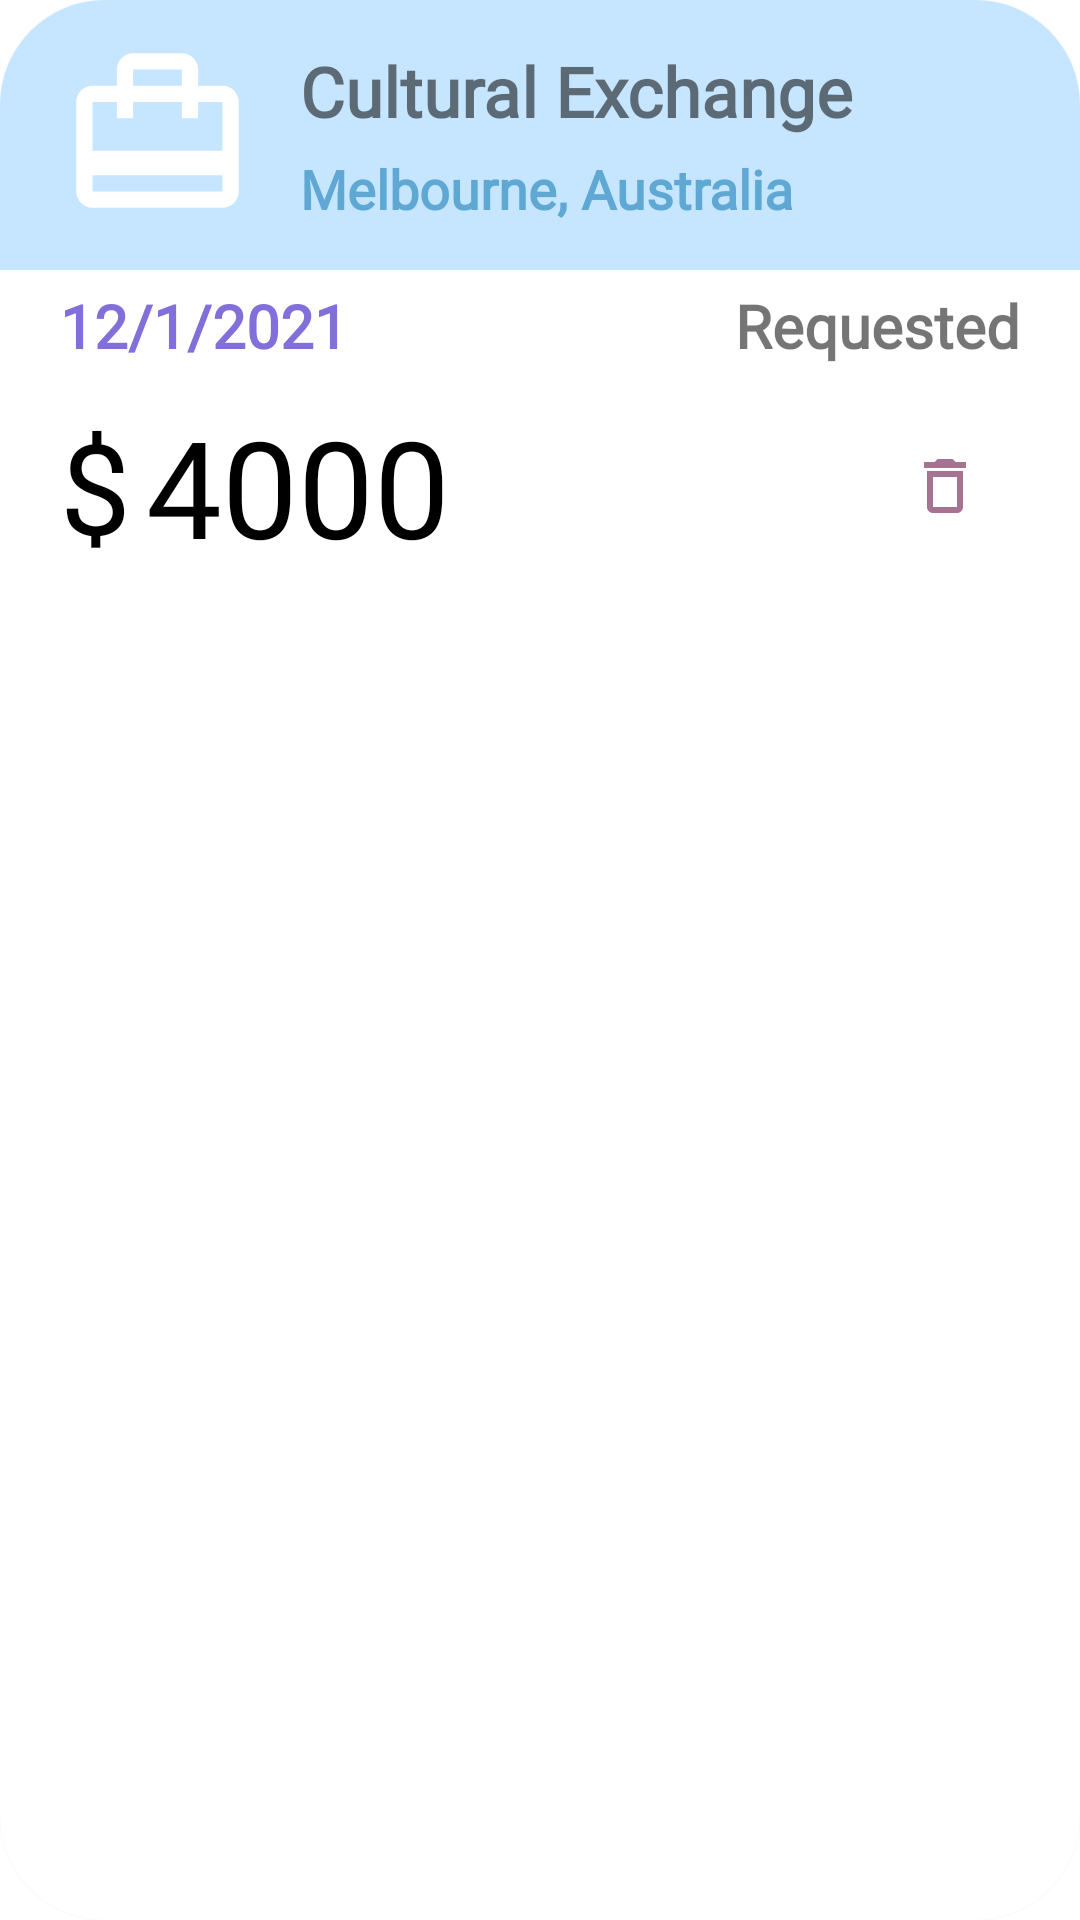

Locate icon controls on the screen. Image size 1080*1920, boxes as (x1, y1, x2, y2).
travel: (76, 53, 239, 208)
